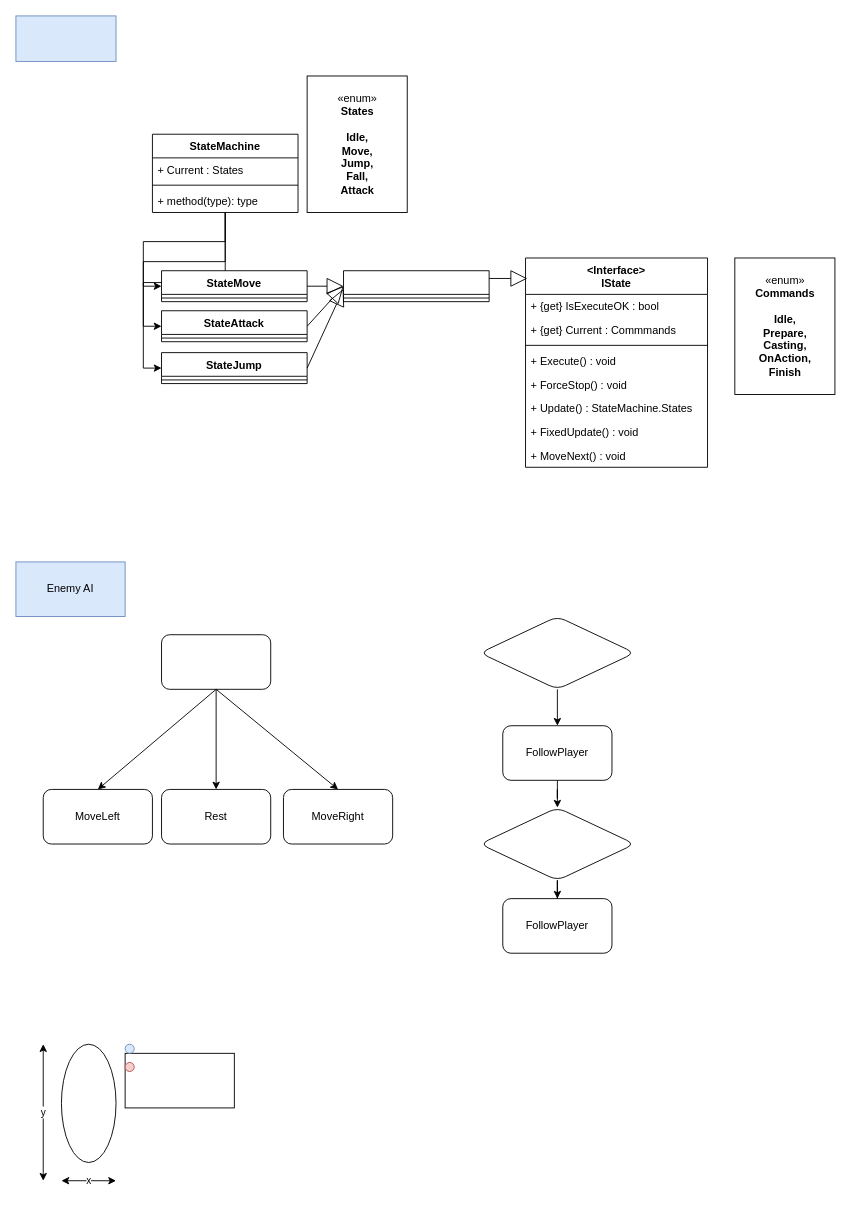
Some shapes in this 851 by 1205 pixel diagram are drawn without their labels. The shapes that lost their labels are listed below. From the top down, each one's centre as x and y in pixels, then its label:
At point (65, 38): "UML".
At point (416, 286): "State".
At point (216, 661): "Think".
At point (557, 652): "IsPlayerDetected".
At point (557, 843): "IsPlayerInAttackRange".
